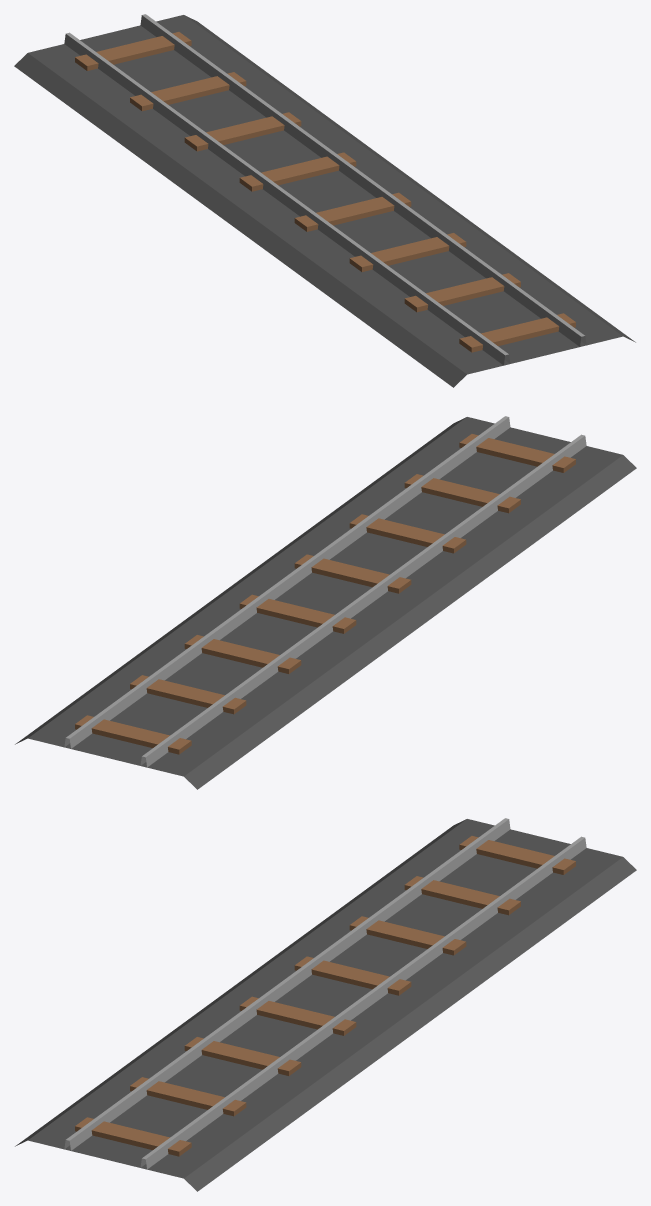
Rendered from 1_straight.fbx.
3 views of the same model, one above another, from view 1: azimuth 30°, elevation 25°; view 2: azimuth 150°, elevation 25°; view 3: azimuth 330°, elevation 25° (orthographic).
Parts seen in each view (by area): view 1: 1_straight; view 2: 1_straight; view 3: 1_straight.
Part boxes in pixels (left/top/right/bottom): 1_straight: left=14, top=14, right=635, bottom=387; 1_straight: left=15, top=416, right=636, bottom=789; 1_straight: left=15, top=818, right=636, bottom=1191.
Bounding box in the file's own units: 1.93 × 0.2 × 8.
